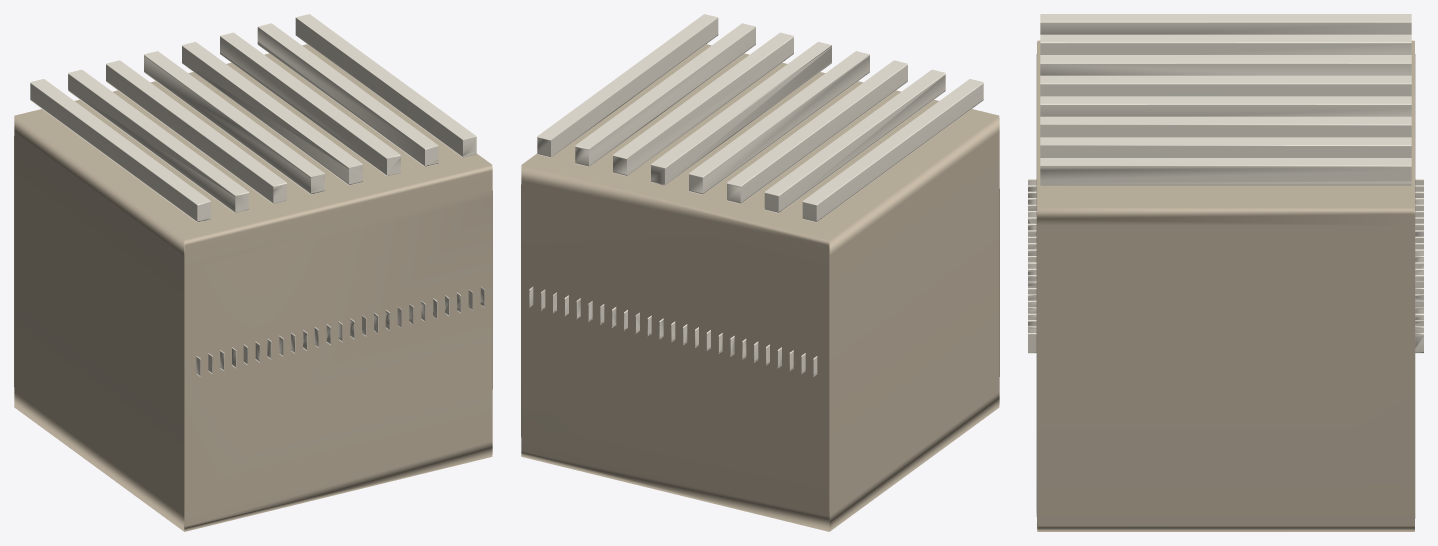
Rendered from rug-15-1.lod.glb.
3 views of the same model, side by side, from view 1: azimuth 30°, elevation 25°; view 2: azimuth 150°, elevation 25°; view 3: azimuth 270°, elevation 25° (orthographic). The views are drawn at different scales.
Visible parts, largest first — view 1: woven-rug, upholstery; view 2: woven-rug, upholstery; view 3: woven-rug, upholstery.
Boxes of the visible parts, x1,y1,x2,y2 form: woven-rug: (14,44,492,531); upholstery: (30,14,484,376); woven-rug: (521,44,999,531); upholstery: (529,14,983,376); woven-rug: (1036,40,1415,531); upholstery: (1028,14,1423,353).
Bounding box in the file's own units: 1 × 1 × 1.
